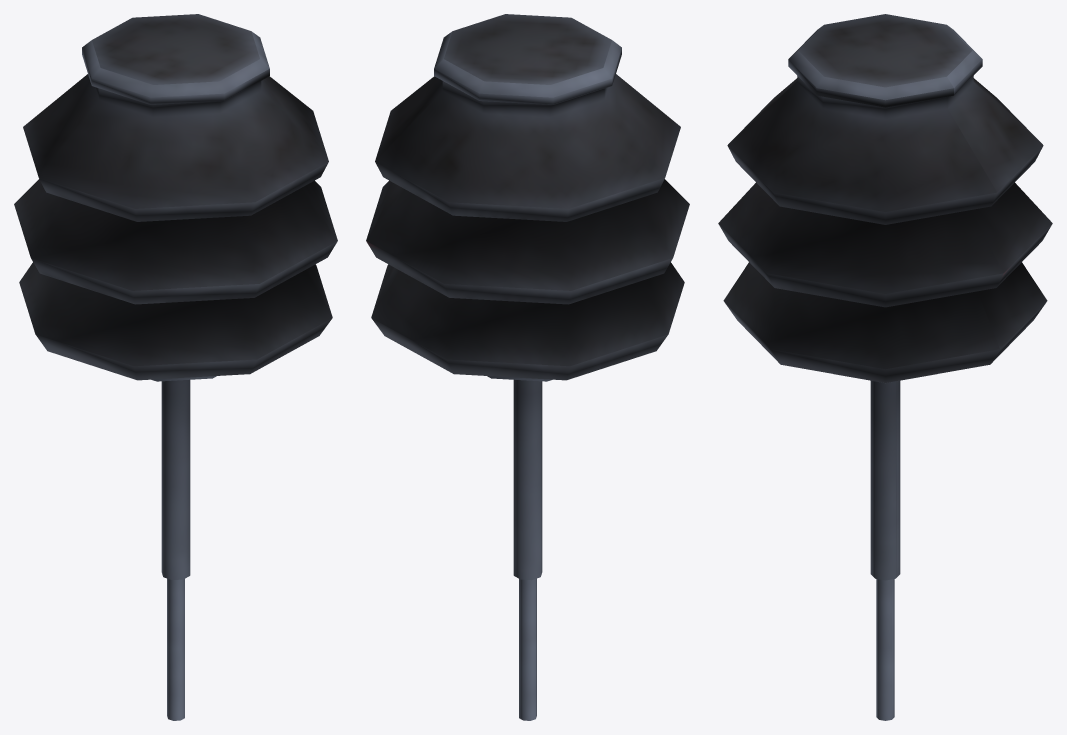
The model's file is prop_non_conducting_c.glb.
3 views of the same model, side by side, from view 1: azimuth 30°, elevation 25°; view 2: azimuth 150°, elevation 25°; view 3: azimuth 270°, elevation 25° (orthographic).
Parts seen in each view (by area): view 1: prop_non_conducting_c; view 2: prop_non_conducting_c; view 3: prop_non_conducting_c.
Part boxes in pixels (left/top/right/bottom): prop_non_conducting_c: left=14, top=14, right=337, bottom=720; prop_non_conducting_c: left=366, top=14, right=689, bottom=720; prop_non_conducting_c: left=718, top=14, right=1052, bottom=720.
Bounding box in the file's own units: 0.1912 × 0.42 × 0.1912.
1 material, 1 textured.
